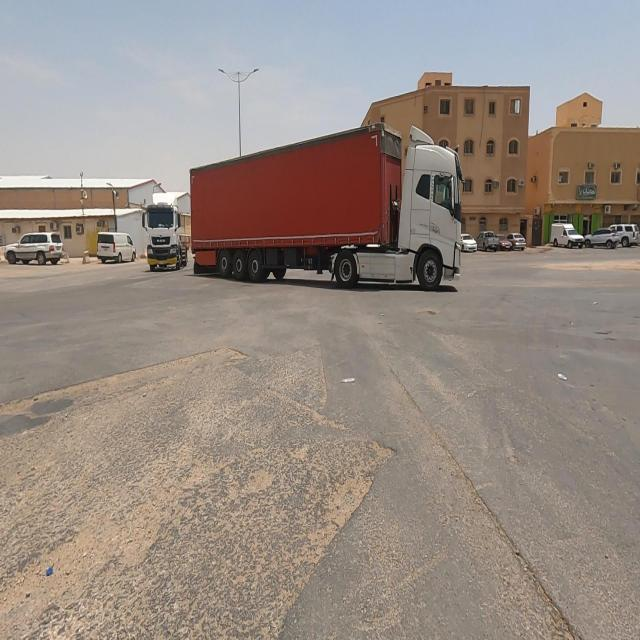debris: (536, 339, 586, 415), (322, 354, 372, 410)
